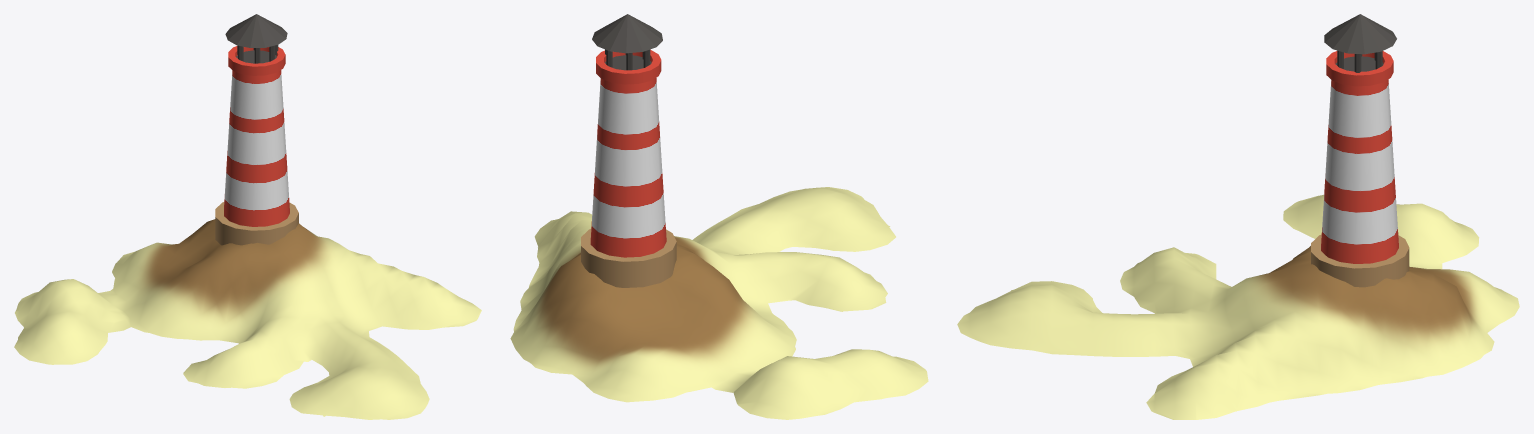
The model's file is faro.fbx.
3 renders of one model, left to right at view 1: azimuth 30°, elevation 25°; view 2: azimuth 150°, elevation 25°; view 3: azimuth 270°, elevation 25°, orthographic. The views are drawn at different scales.
Parts seen in each view (by area): view 1: Shore, Faro, Top; view 2: Shore, Faro, Top; view 3: Shore, Faro, Top.
Part boxes in pixels (bbox=[...]): Shore: bbox=[14, 219, 481, 419]; Faro: bbox=[215, 46, 298, 245]; Top: bbox=[225, 14, 287, 63]; Shore: bbox=[510, 187, 928, 419]; Faro: bbox=[581, 49, 676, 287]; Top: bbox=[592, 14, 662, 70]; Shore: bbox=[957, 194, 1519, 419]; Faro: bbox=[1311, 51, 1409, 287]; Top: bbox=[1324, 14, 1396, 72].
Size of what is drawn, in the model's own units: 2355 by 1584 by 2491.
